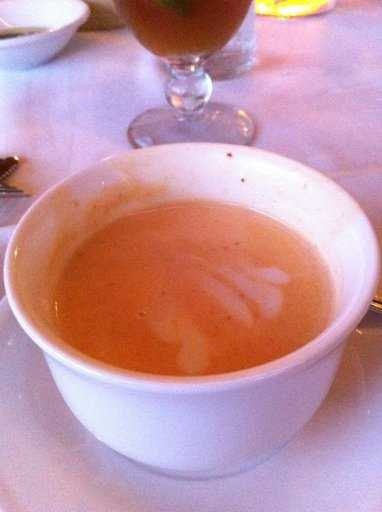soup: (6, 155, 355, 377)
